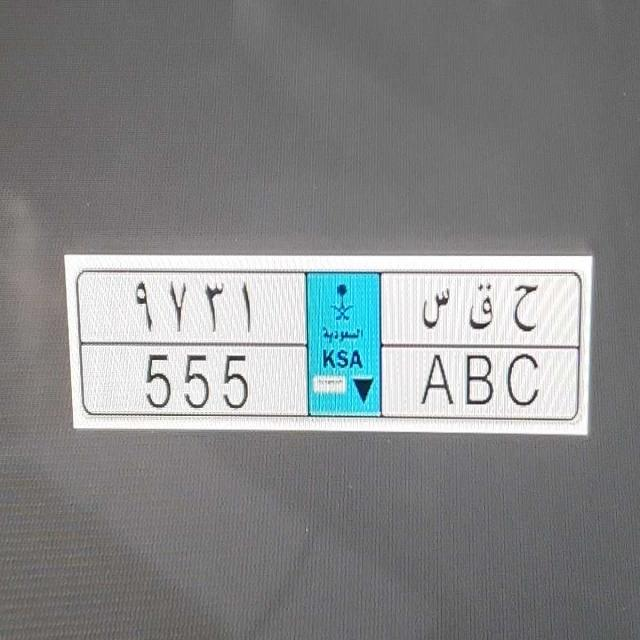license_plate: (100, 342, 558, 430)
